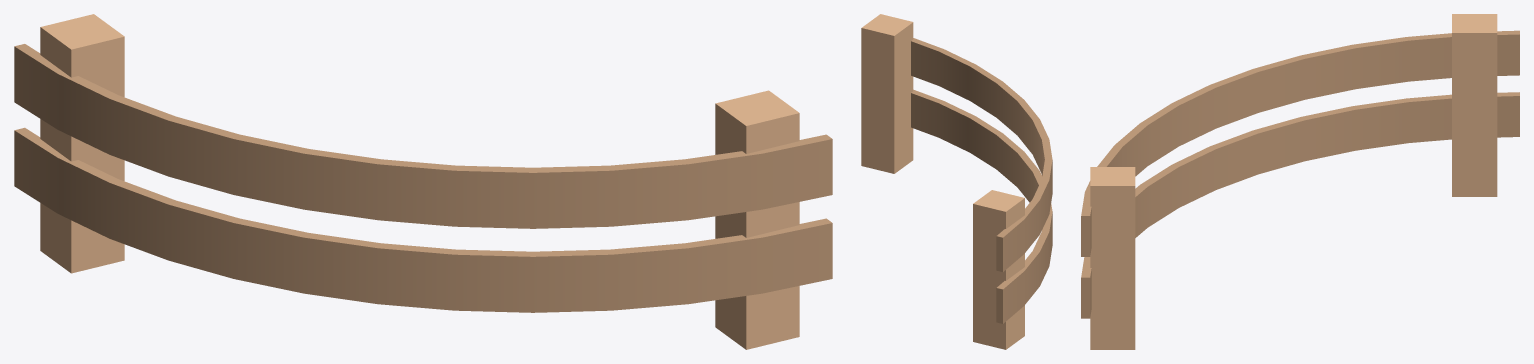
3 renders of one model, left to right at view 1: azimuth 30°, elevation 25°; view 2: azimuth 150°, elevation 25°; view 3: azimuth 270°, elevation 25°, orthographic. The views are drawn at different scales.
Visible parts, largest first — view 1: fenceCornerCurved; view 2: fenceCornerCurved; view 3: fenceCornerCurved.
Part boxes in pixels (x1=…): fenceCornerCurved: x1=14, y1=14, x2=832, y2=349; fenceCornerCurved: x1=861, y1=14, x2=1052, y2=349; fenceCornerCurved: x1=1081, y1=14, x2=1519, y2=349.
Size of the model in its own units: 0.97 by 0.4 by 0.97.
